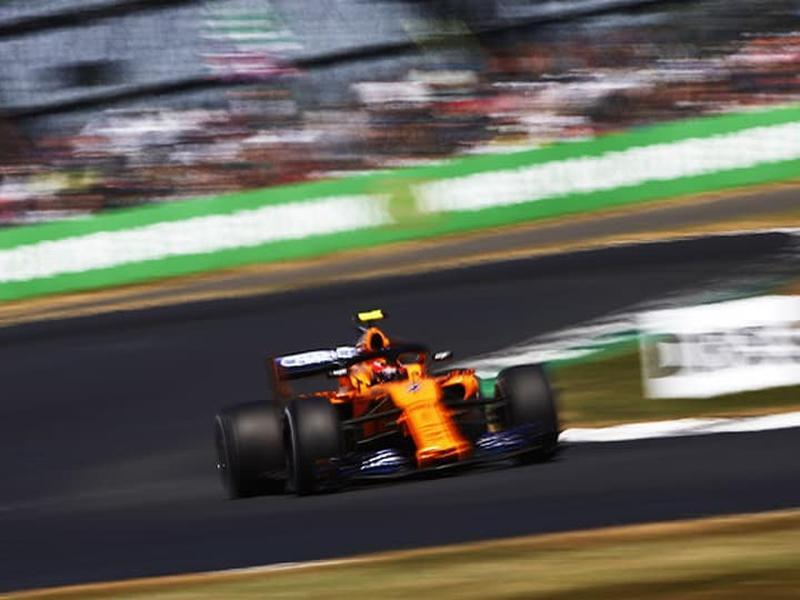f1: (199, 287, 577, 493)
